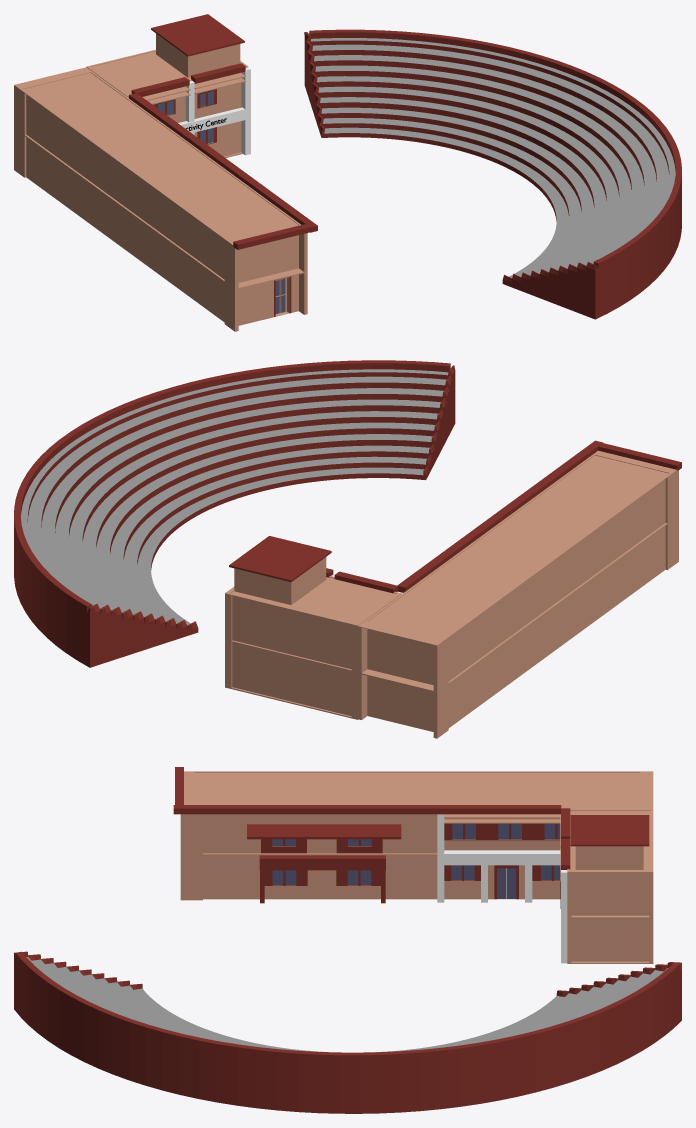
File: sac.gltf
3 views of the same model, one above another, from view 1: azimuth 30°, elevation 25°; view 2: azimuth 150°, elevation 25°; view 3: azimuth 270°, elevation 25° (orthographic). The views are drawn at different scales.
Visible parts, largest first — view 1: black; view 2: black; view 3: black.
Boxes of the visible parts, x1,y1,x2,y2 form: black: (14,14,681,331); black: (14,360,681,738); black: (14,767,681,1113).
Size of the model in its own units: 45.14 by 9.9 by 50.57.
